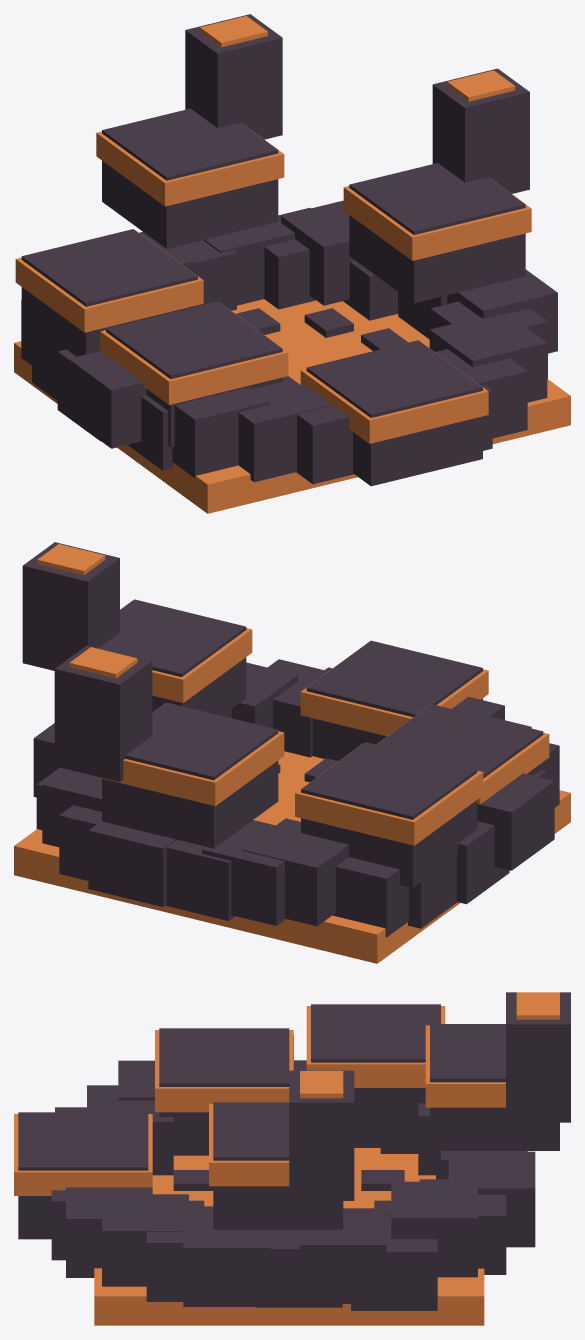
The model's file is caldera.glb.
3 renders of one model, top to bottom at view 1: azimuth 30°, elevation 25°; view 2: azimuth 150°, elevation 25°; view 3: azimuth 270°, elevation 25°, orthographic.
Visible parts, largest first — view 1: mound-3, rock-45, rock-50, mound-2, mound-38, mound-41, rock-42, rock-47, mound-49, mound-44, rock-15, rock-0 (+28 smaller); view 2: mound-3, rock-50, rock-45, mound-41, mound-2, rock-47, mound-49, mound-38, mound-44, rock-19, rock-22, rock-15 (+22 smaller); view 3: mound-3, mound-2, mound-38, rock-45, rock-26, rock-50, rock-5, mound-41, rock-24, rock-7, rock-22, rock-42 (+26 smaller).
Boxes of the visible parts, x1=… form: mound-3: x1=14, y1=299, x2=570, y2=513; rock-45: x1=432, y1=68, x2=529, y2=193; rock-50: x1=185, y1=14, x2=282, y2=139; mound-2: x1=306, y1=340, x2=482, y2=417; mound-38: x1=106, y1=301, x2=282, y2=378; mound-41: x1=21, y1=229, x2=197, y2=306; rock-42: x1=349, y1=215, x2=525, y2=303; rock-47: x1=102, y1=161, x2=278, y2=248; mound-49: x1=102, y1=108, x2=278, y2=180; mound-44: x1=349, y1=163, x2=525, y2=234; rock-15: x1=68, y1=351, x2=146, y2=448; rock-0: x1=353, y1=416, x2=482, y2=486; mound-3: x1=14, y1=751, x2=570, y2=963; rock-50: x1=54, y1=645, x2=152, y2=781; rock-45: x1=22, y1=542, x2=119, y2=670; mound-41: x1=301, y1=742, x2=477, y2=819; mound-2: x1=306, y1=640, x2=482, y2=716; rock-47: x1=102, y1=760, x2=278, y2=848; mound-49: x1=125, y1=702, x2=278, y2=780; mound-38: x1=376, y1=704, x2=543, y2=778; mound-44: x1=99, y1=599, x2=246, y2=677; rock-19: x1=242, y1=818, x2=348, y2=926; rock-22: x1=88, y1=821, x2=177, y2=906; rock-15: x1=477, y1=773, x2=554, y2=870; mound-3: x1=94, y1=1148, x2=484, y2=1325; mound-2: x1=18, y1=1112, x2=148, y2=1170; mound-38: x1=159, y1=1028, x2=289, y2=1086; rock-45: x1=289, y1=1070, x2=354, y2=1200; rock-26: x1=300, y1=1208, x2=386, y2=1303; rock-50: x1=506, y1=992, x2=570, y2=1122; rock-5: x1=183, y1=1211, x2=269, y2=1306; mound-41: x1=311, y1=1004, x2=440, y2=1062; rock-24: x1=391, y1=1181, x2=477, y2=1277; rock-7: x1=102, y1=1194, x2=188, y2=1286; rock-22: x1=448, y1=1151, x2=535, y2=1247; rock-42: x1=213, y1=1186, x2=343, y2=1229.
Bounding box in the file's own units: 49.29 × 27.7 × 51.4.
